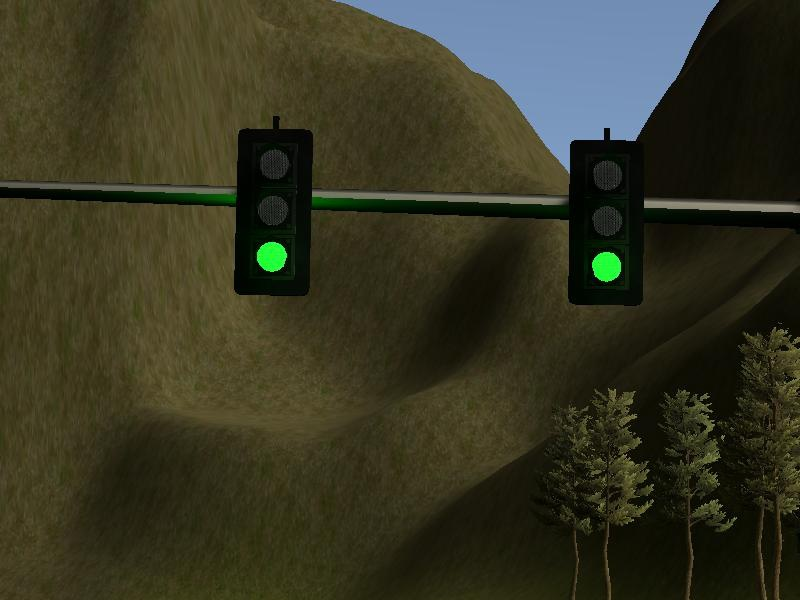Green: (229, 126, 315, 298), (568, 137, 647, 306)
